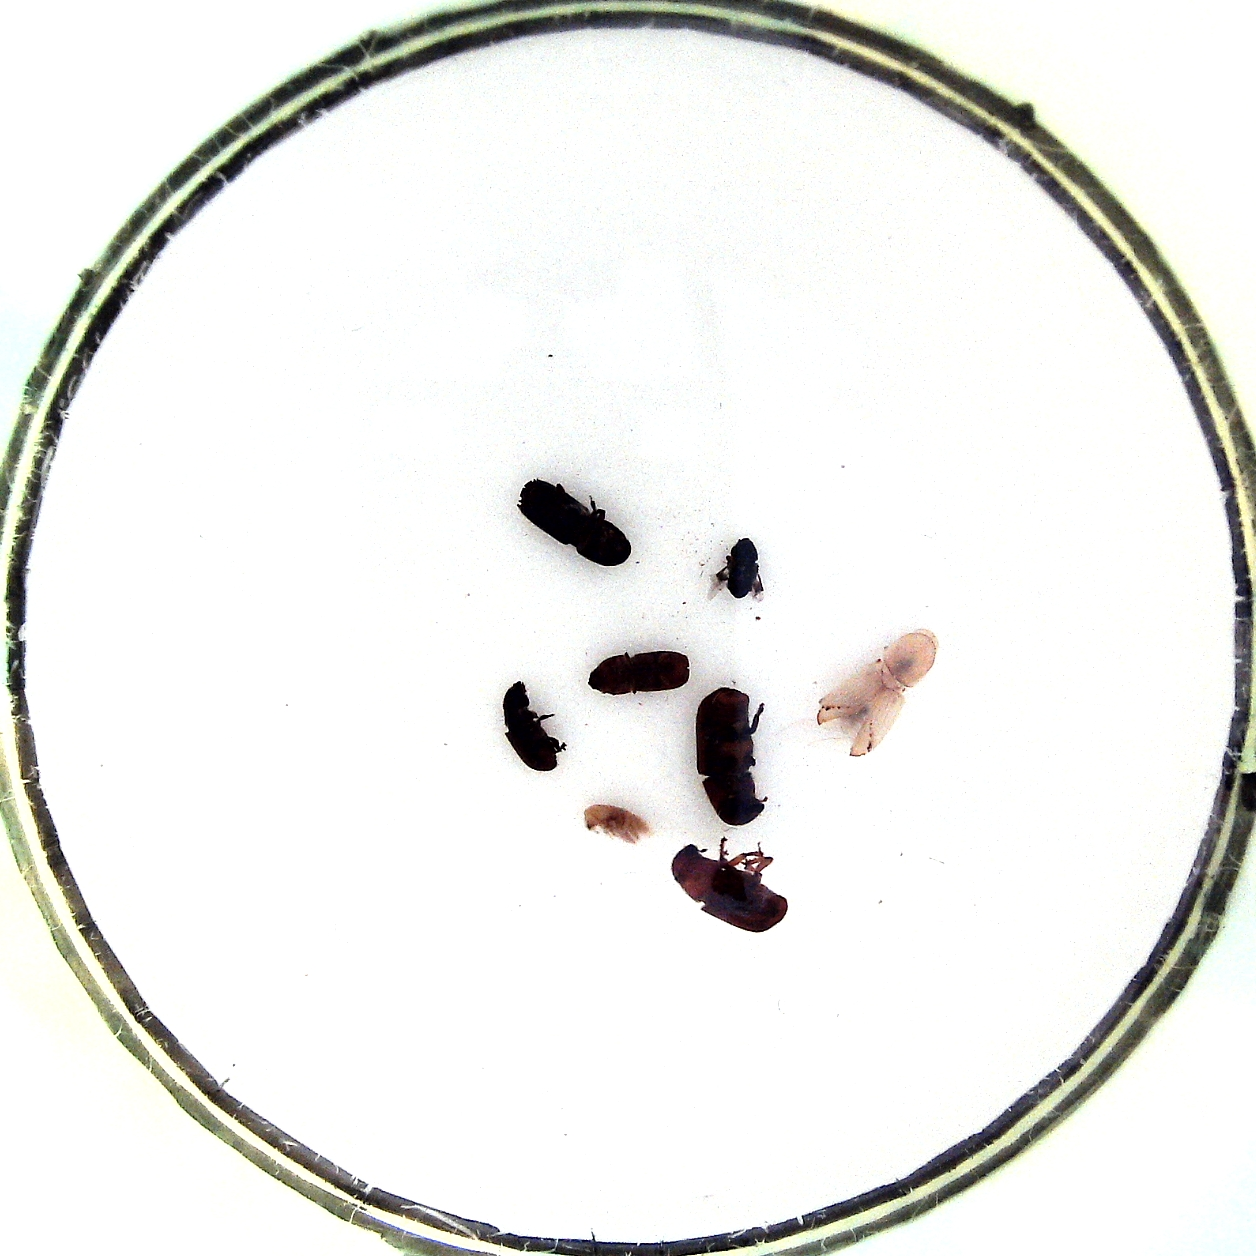Boerner: (815, 628, 941, 759), (516, 477, 637, 567)
Leconte: (671, 837, 789, 934), (690, 686, 769, 826)
Linnaeus: (587, 649, 694, 698)
acuminatus: (579, 801, 652, 847)
armandi: (501, 677, 569, 775)
coleoptera: (709, 534, 767, 605)
